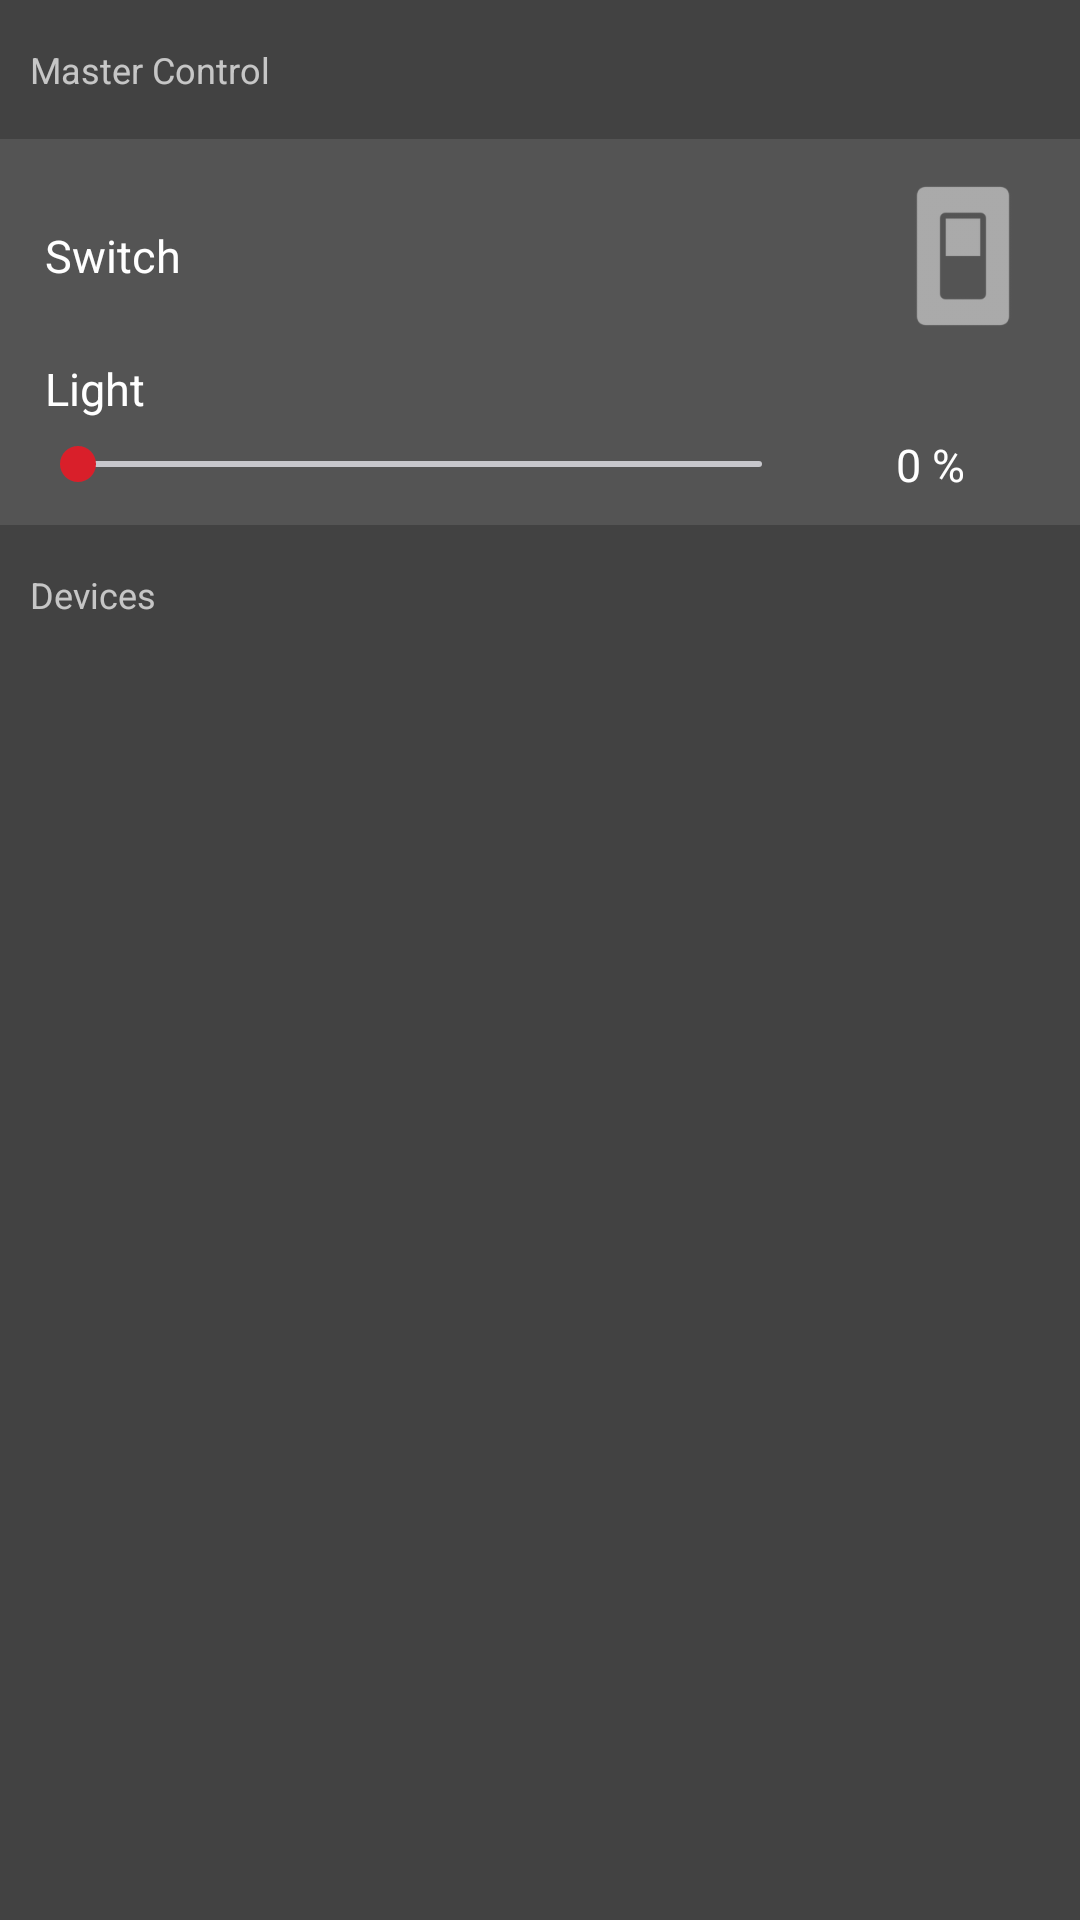

Screen size 1080×1920. Icon name, then its center in pixels as point (x, y):
toggle off: point (963, 256)
